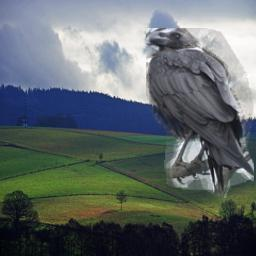Crow: (146, 28, 254, 198)
